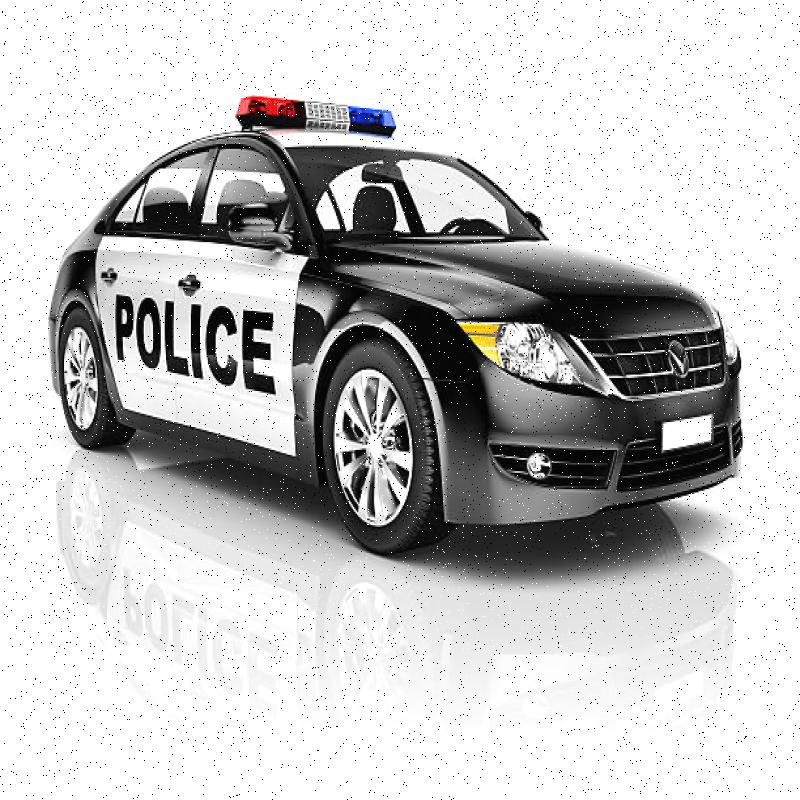AmbulanceSiren: (229, 83, 400, 143)
